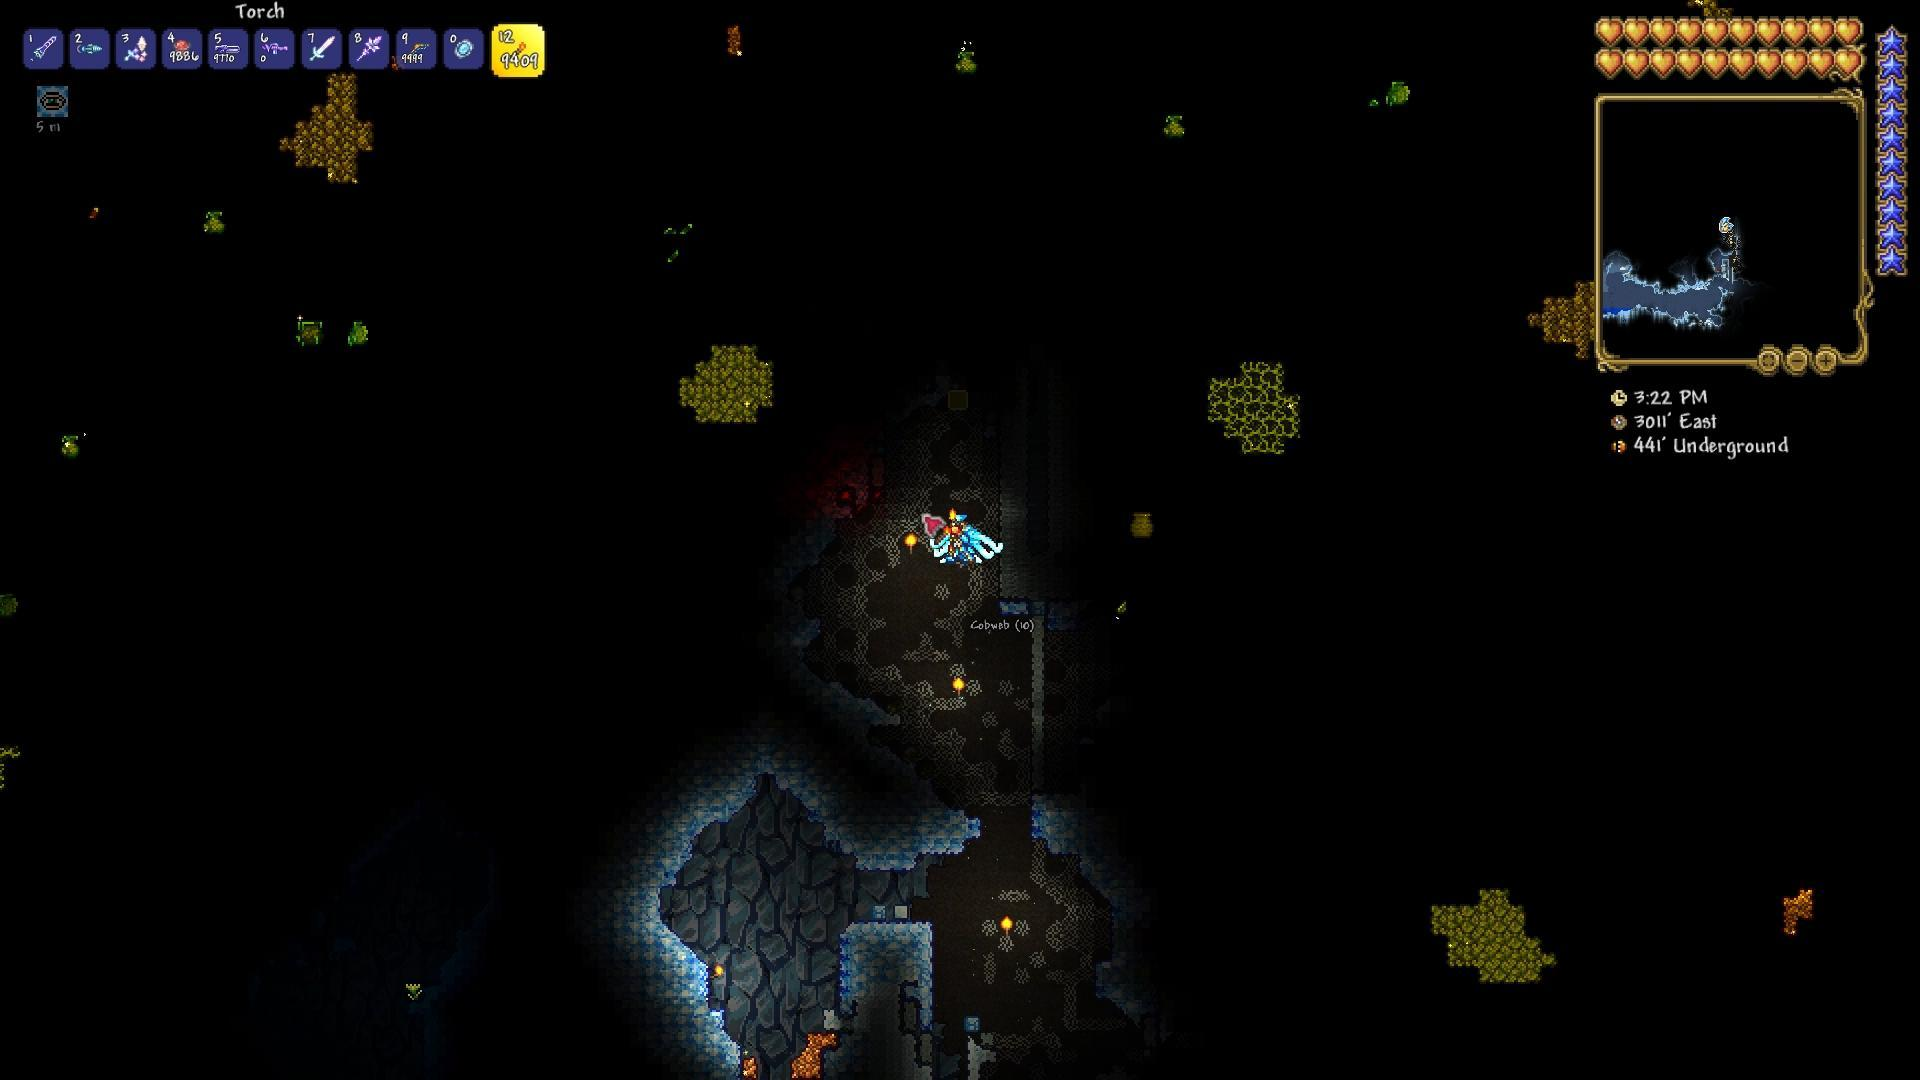cobwebT: (844, 595, 866, 638), (1048, 919, 1077, 949), (899, 645, 945, 663), (935, 615, 967, 636), (997, 887, 1031, 905), (866, 564, 894, 585), (981, 949, 998, 980), (982, 919, 997, 936), (1015, 920, 1029, 938)
